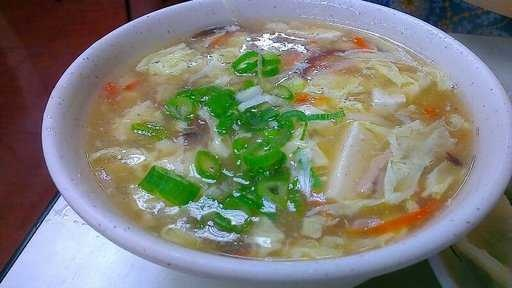soup: (85, 21, 485, 248)
